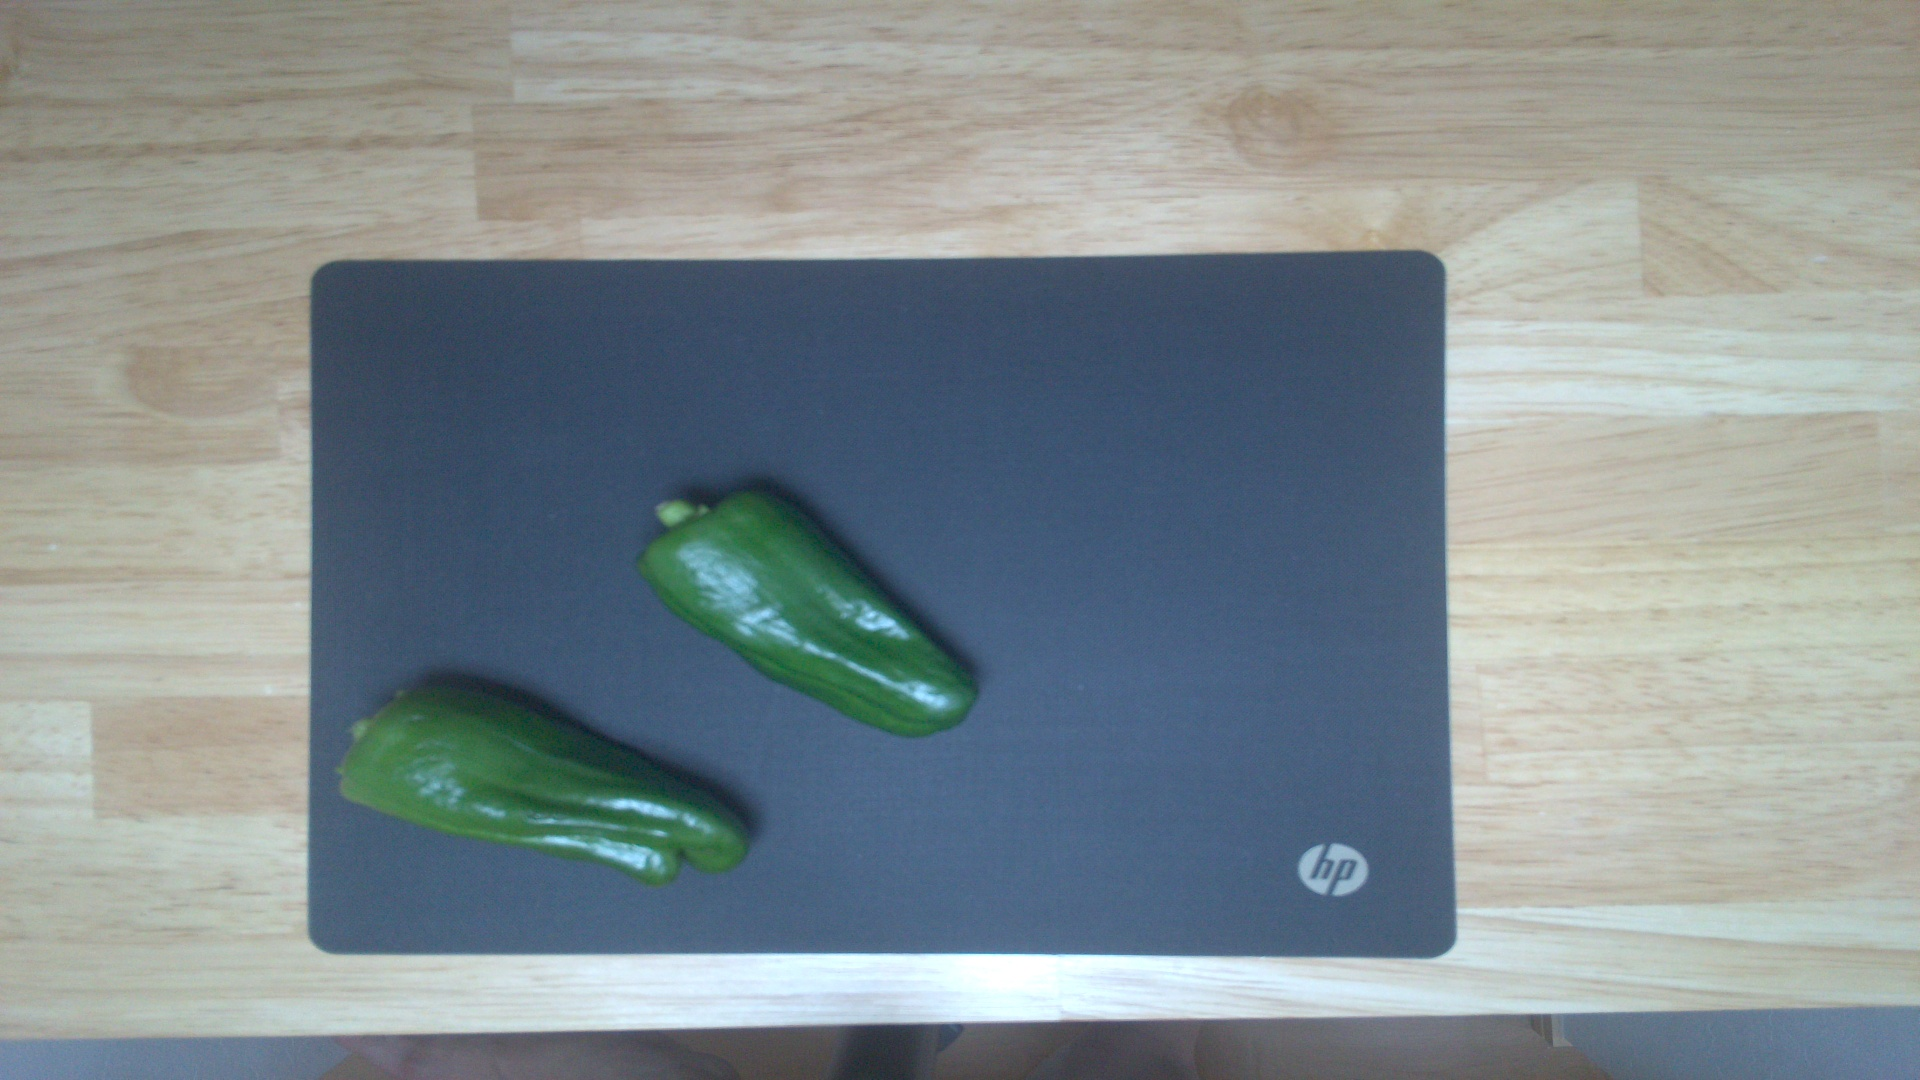Piman: (641, 480, 980, 745), (332, 674, 749, 889)
